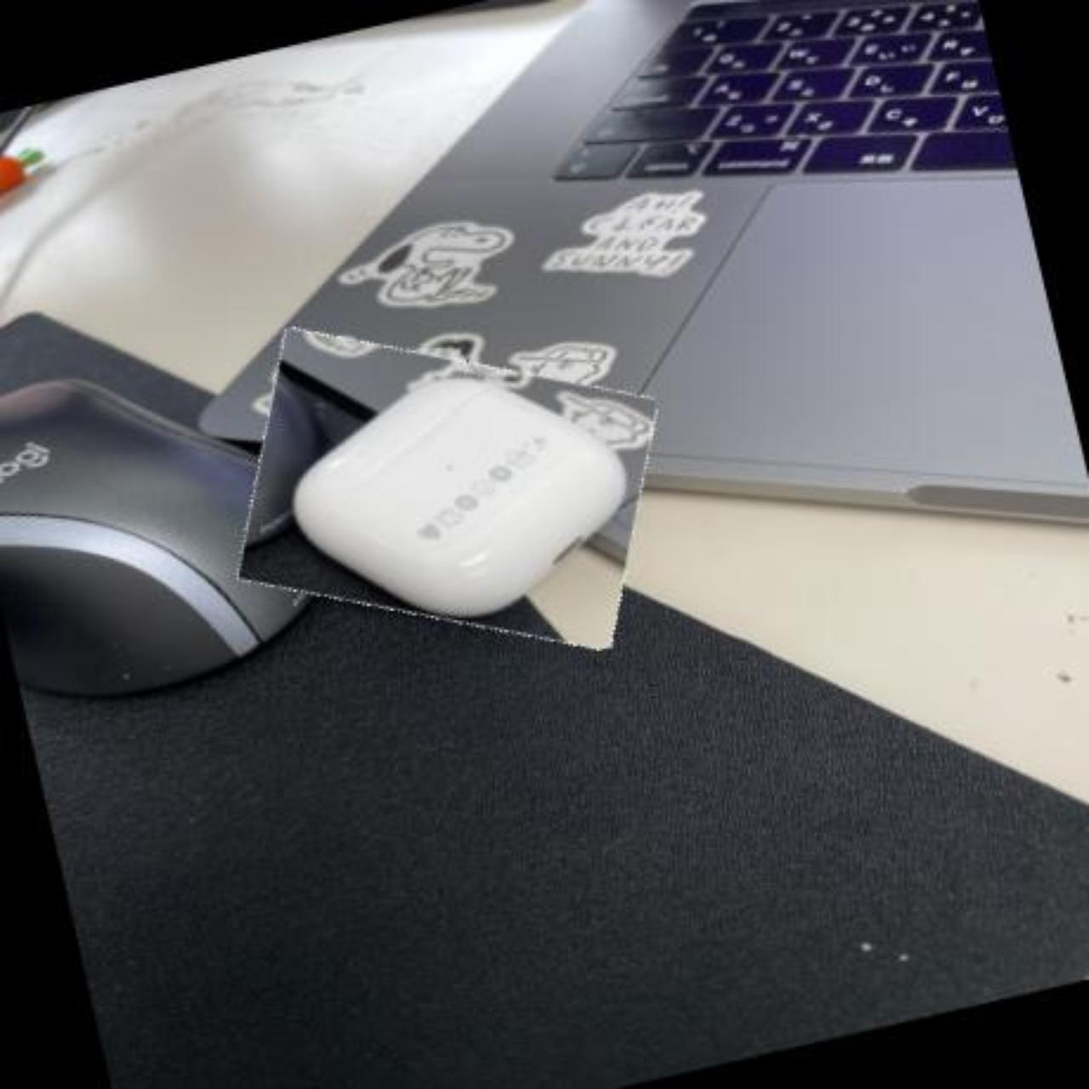AirPods: (209, 285, 684, 690)
